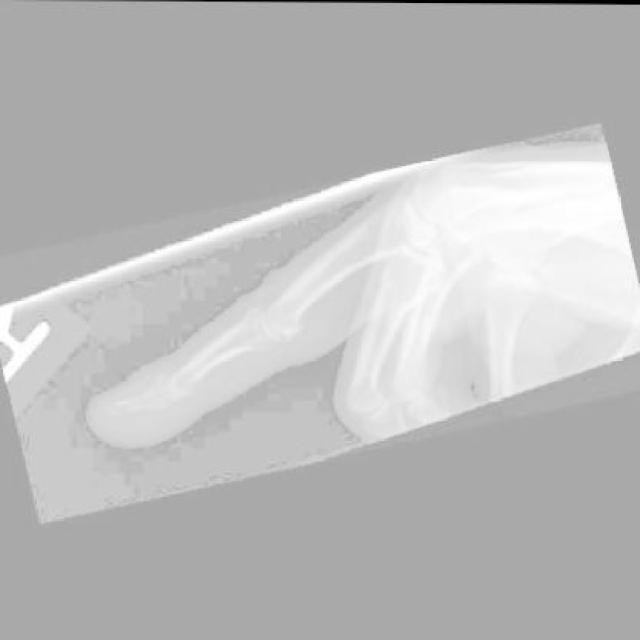Fracture: (103, 393, 136, 424)
